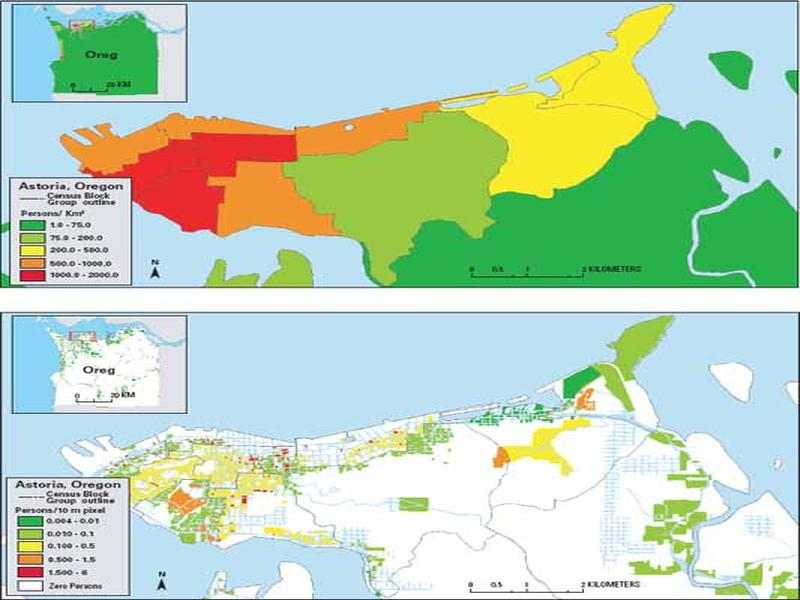legend: (4, 474, 132, 597), (7, 175, 133, 287)
